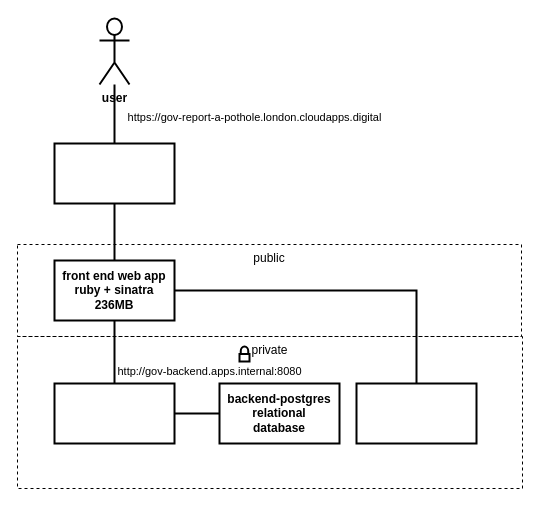
Some shapes in this 540 by 506 pixel diagram are drawn without their labels. Each missing label, with the centre of its shape:
"back end API ruby + sinatra 128Mb" belongs at point 114,413.
"gov-pothole-imgs S3 Bucket object store" belongs at point 416,413.
"Web browser" belongs at point 114,173.
